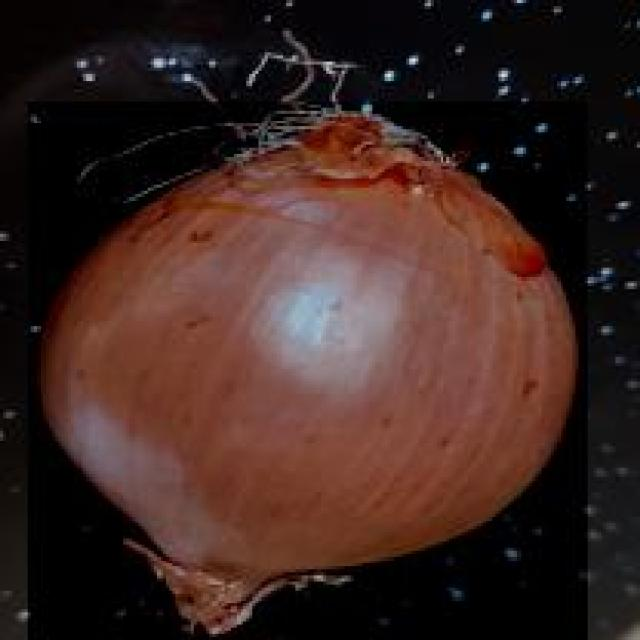onion: (14, 93, 577, 634)
